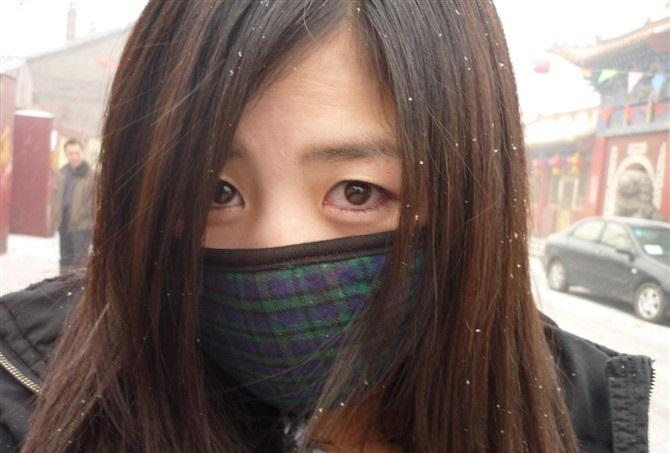OK: (154, 122, 445, 413)
